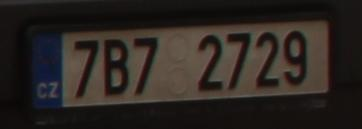2: (198, 35, 223, 90), (256, 31, 280, 87)
7: (74, 41, 98, 99), (134, 38, 158, 96), (228, 33, 250, 90)
9: (284, 31, 308, 86)
B: (104, 40, 129, 95)
